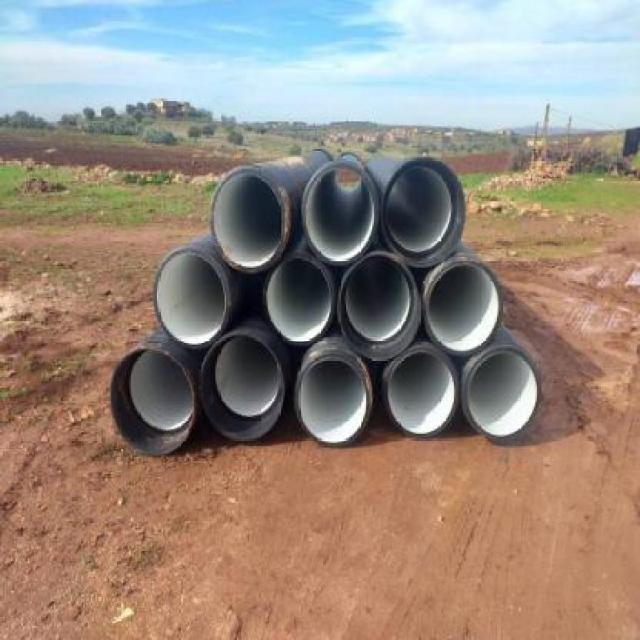pipe: (382, 155, 467, 268), (109, 347, 195, 456), (199, 334, 285, 442), (338, 253, 421, 361), (211, 166, 292, 272), (153, 246, 232, 349), (302, 161, 379, 265), (424, 260, 502, 356), (464, 348, 540, 441), (296, 353, 372, 446), (385, 348, 459, 439), (265, 256, 334, 345)
